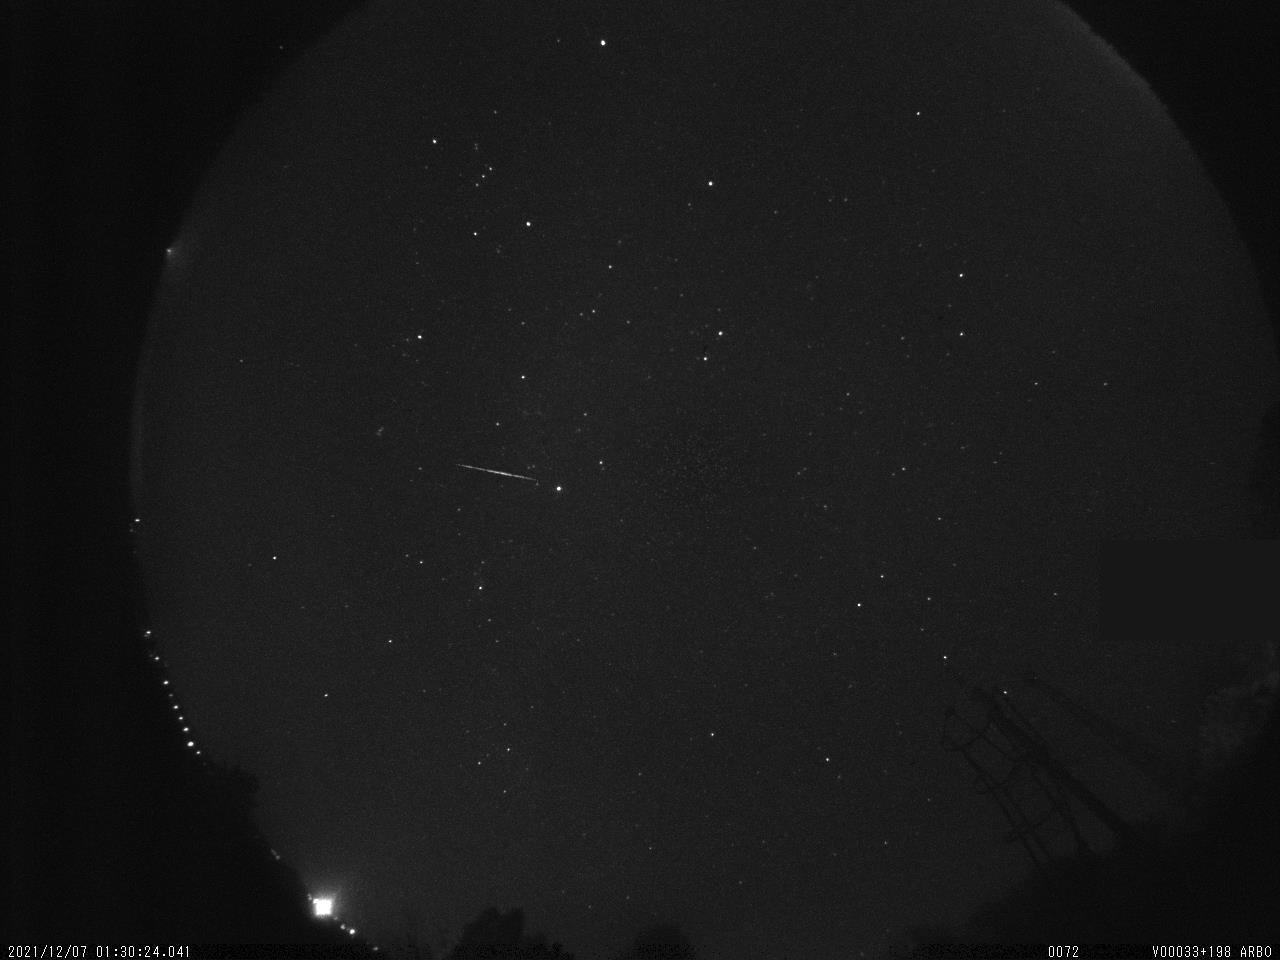meteor: (447, 449, 547, 495)
